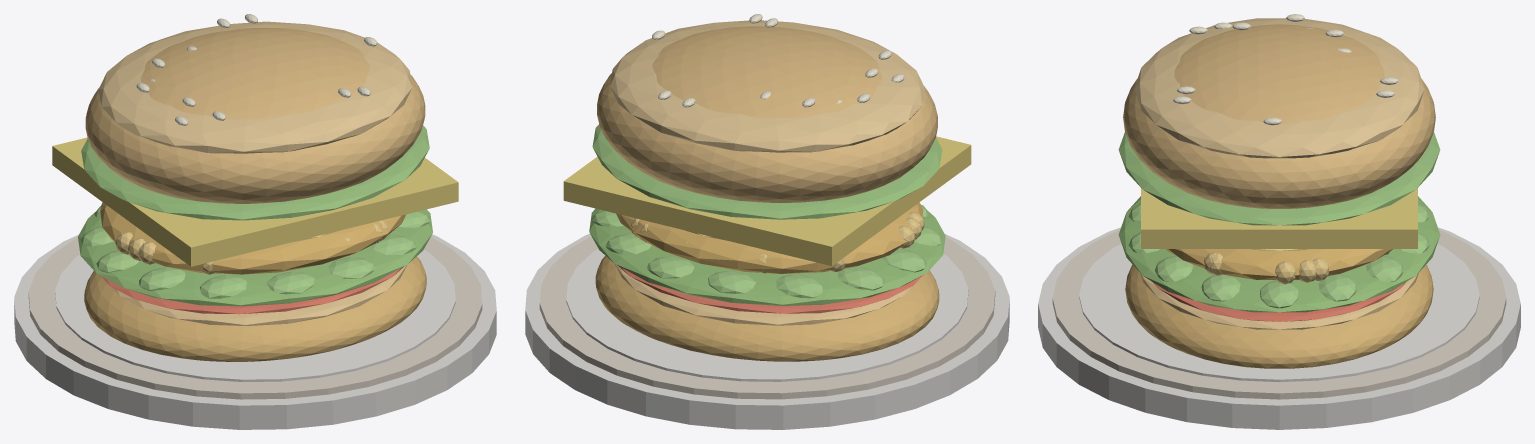
The model's file is burger_phomai.glb.
3 renders of one model, left to right at view 1: azimuth 30°, elevation 25°; view 2: azimuth 150°, elevation 25°; view 3: azimuth 270°, elevation 25°, orthographic.
Visible parts, largest first — view 1: obj_0044, obj_0000, obj_0045, obj_0003, obj_0001, obj_0042, obj_0002, obj_0006, obj_0043, obj_0021, obj_0004, obj_0005 (+6 smaller); view 2: obj_0044, obj_0000, obj_0045, obj_0003, obj_0001, obj_0042, obj_0002, obj_0006, obj_0043, obj_0021, obj_0004, obj_0005 (+6 smaller); view 3: obj_0044, obj_0000, obj_0045, obj_0001, obj_0002, obj_0003, obj_0042, obj_0006, obj_0043, obj_0021, obj_0004, obj_0005 (+5 smaller).
Part boxes in pixels (x1,y1,x2,y2): obj_0044: [85, 27, 425, 203]; obj_0000: [14, 234, 496, 429]; obj_0045: [98, 21, 412, 153]; obj_0003: [84, 256, 426, 361]; obj_0001: [28, 237, 482, 399]; obj_0042: [52, 137, 458, 266]; obj_0002: [55, 249, 455, 381]; obj_0006: [78, 209, 432, 306]; obj_0043: [81, 125, 429, 220]; obj_0021: [100, 204, 406, 274]; obj_0004: [111, 265, 406, 325]; obj_0005: [101, 266, 403, 314]; obj_0044: [597, 26, 937, 203]; obj_0000: [525, 233, 1009, 429]; obj_0045: [610, 20, 924, 152]; obj_0003: [595, 256, 939, 361]; obj_0001: [539, 236, 995, 399]; obj_0042: [563, 136, 971, 265]; obj_0002: [566, 249, 968, 381]; obj_0006: [589, 208, 945, 305]; obj_0043: [592, 124, 942, 219]; obj_0021: [616, 202, 923, 273]; obj_0004: [615, 264, 911, 325]; obj_0005: [618, 266, 922, 313]; obj_0044: [1123, 24, 1435, 208]; obj_0000: [1038, 227, 1520, 429]; obj_0045: [1134, 18, 1424, 158]; obj_0001: [1052, 229, 1506, 399]; obj_0002: [1079, 243, 1479, 381]; obj_0003: [1125, 264, 1433, 368]; obj_0042: [1141, 188, 1417, 248]; obj_0006: [1118, 196, 1440, 312]; obj_0043: [1118, 132, 1440, 225]; obj_0021: [1167, 249, 1392, 280]; obj_0004: [1140, 273, 1418, 329]; obj_0005: [1153, 282, 1405, 321].
Size of the model in its own units: 2.16 by 1.34 by 2.16.
